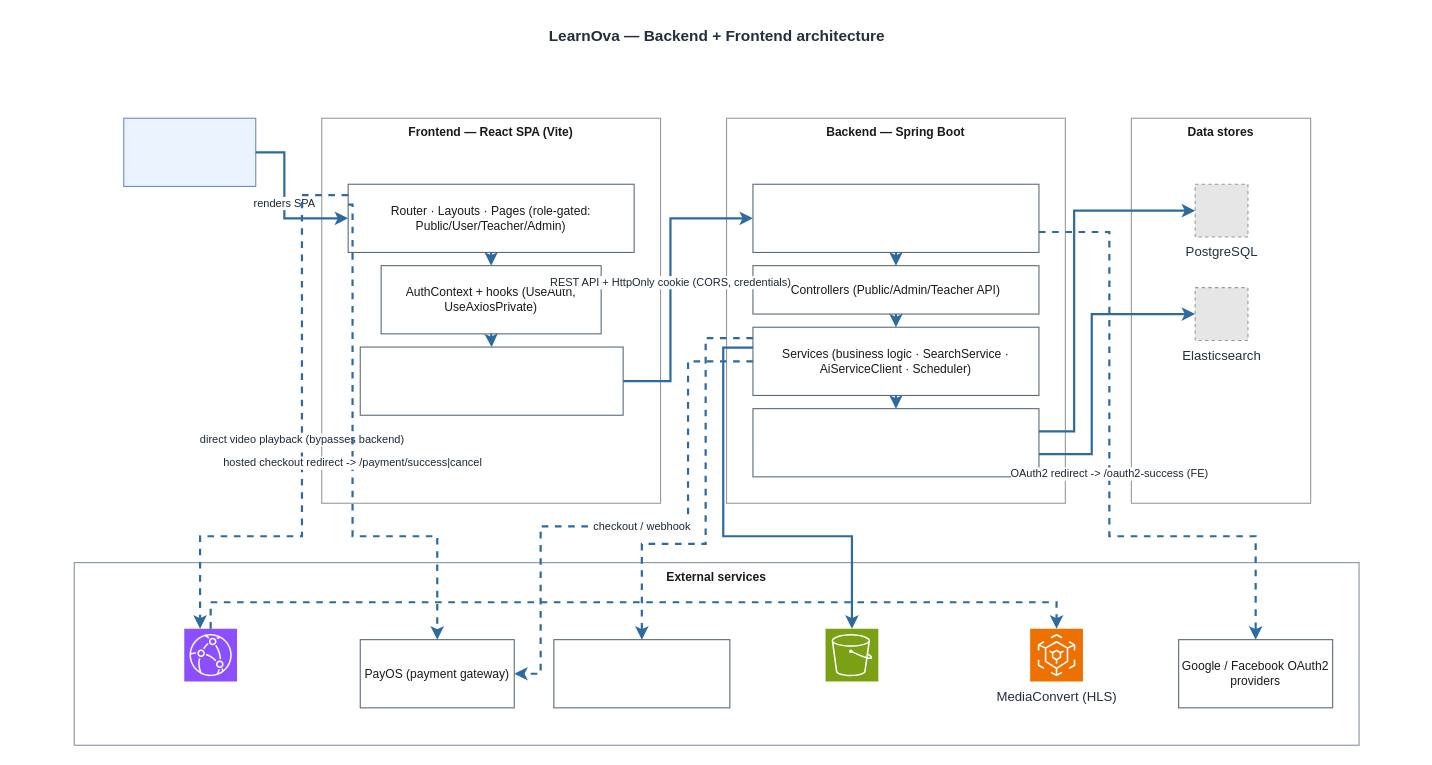
Some shapes in this 1432 by 765 pixel diagram are drawn without their labels. Grey dashed boxes stand in for pictures. The centre of each missing label's shape, as x and y in pixels:
"ai-service (FastAPI) -> Gemini API" goes at [641,673].
"AxiosClient + domain API modules (withCredentials, VITE_API_URL)" goes at [491,380].
"CloudFront (signed URL HLS)" goes at [210,654].
"CorsConfig · JwtAuthenticationFilter OAuth2SuccessHandler · RateLimitInterceptor" goes at [895,217].
"Repositories (Spring Data JPA · CourseSearchRepository)" goes at [895,442].
"S3 (video storage)" goes at [851,654].
"USER (Browser)" goes at [189,151].
